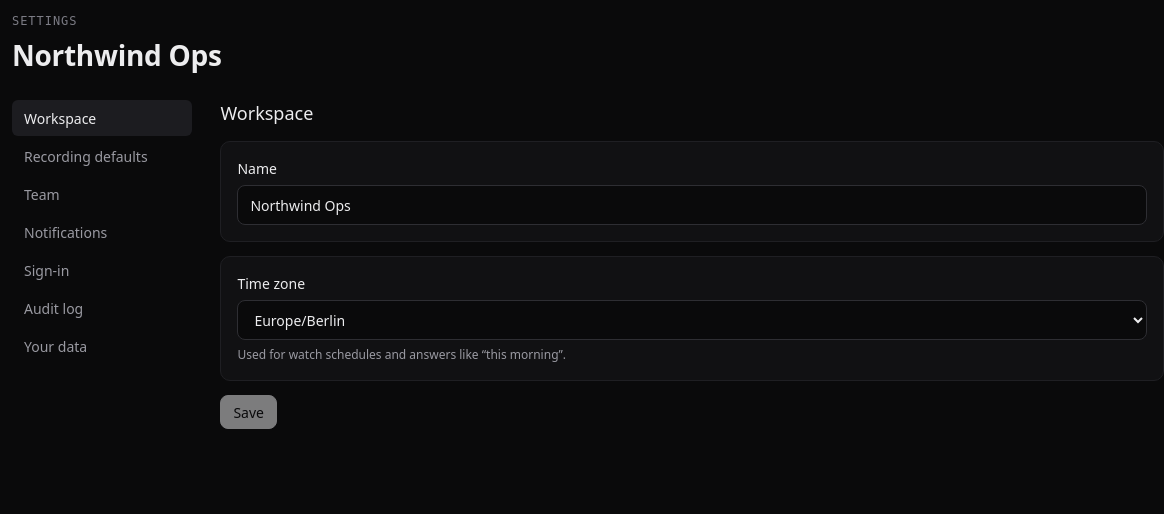
Test: SettingsPage › saves recording defaults within the workspace's maximum
Check: the heading "Northwind Ops" is shown, box top-left (12, 36), bottom-right (222, 74)
Click the tab "Recording defaults" at (102, 156), box top-left (12, 138), bottom-right (192, 174)
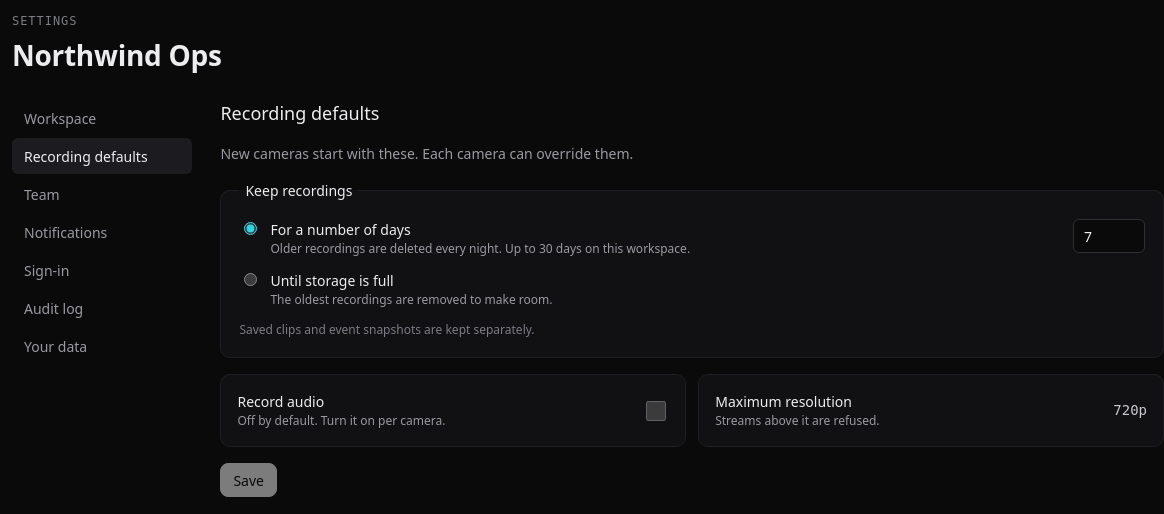
Replace the text in the number field named "Days" with "40" at (1109, 236), box top-left (1073, 219), bottom-right (1145, 253)
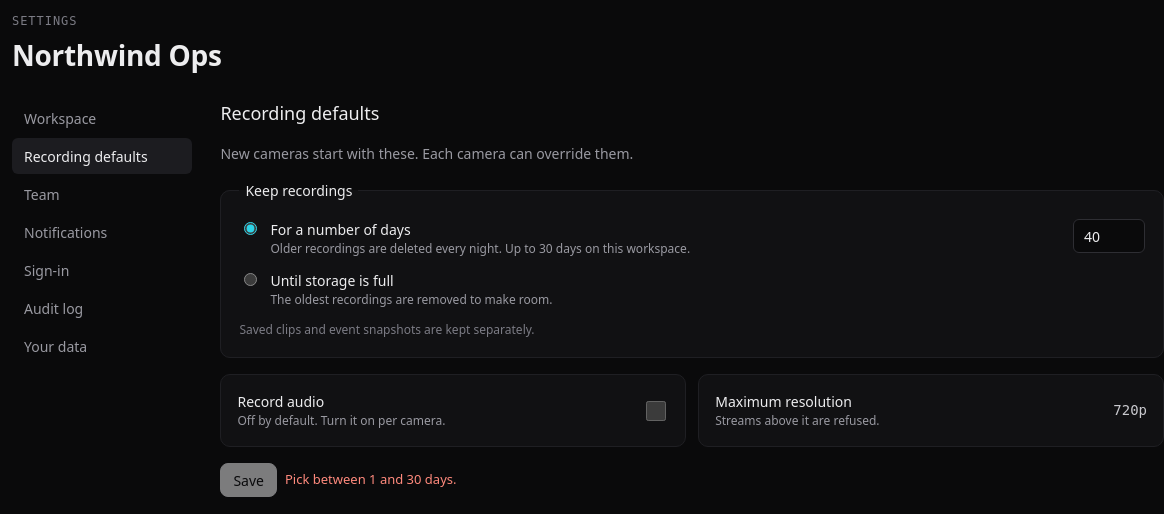
Check: the button "Save" is disabled, box top-left (220, 463), bottom-right (277, 497)
Click the radio button labelled "Until storage is full" at (251, 280), box top-left (244, 273), bottom-right (257, 286)
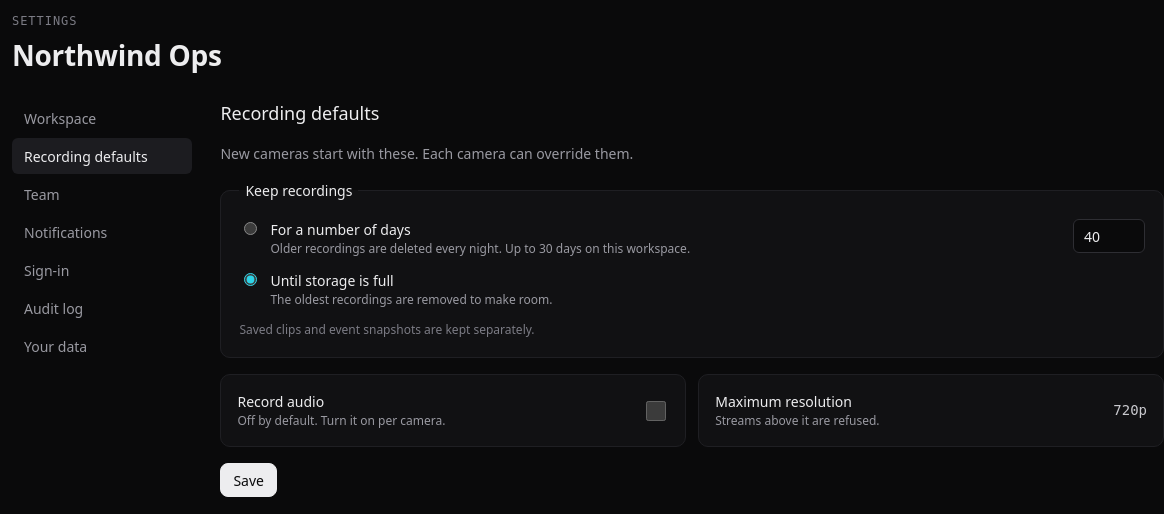
Click the button "Save" at (249, 480), box top-left (220, 463), bottom-right (277, 497)
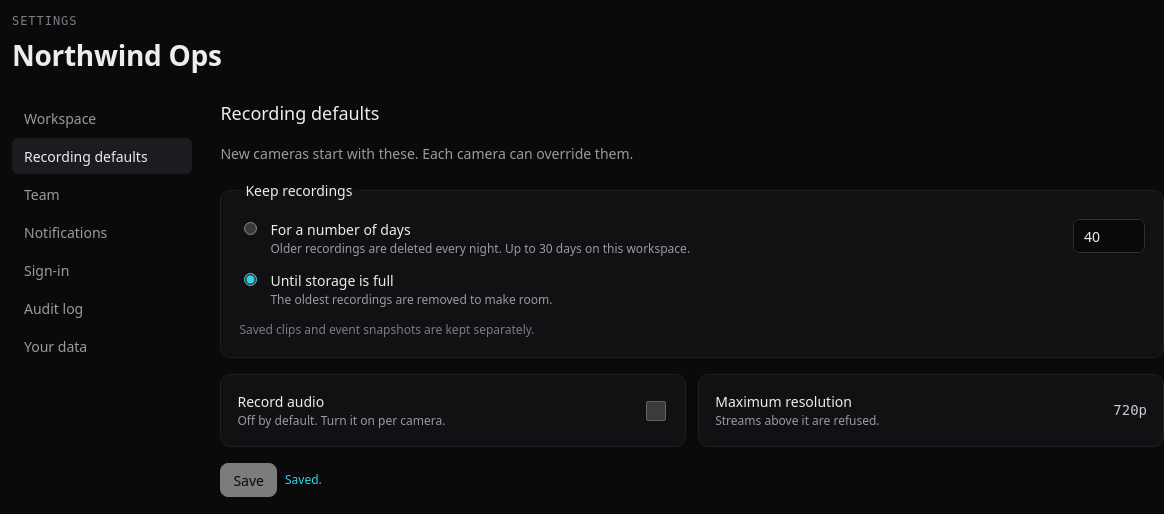
Check: the text "720p" is shown, box top-left (1113, 400), bottom-right (1147, 421)
Check: the text "Saved." is shown, box top-left (285, 471), bottom-right (322, 489)
